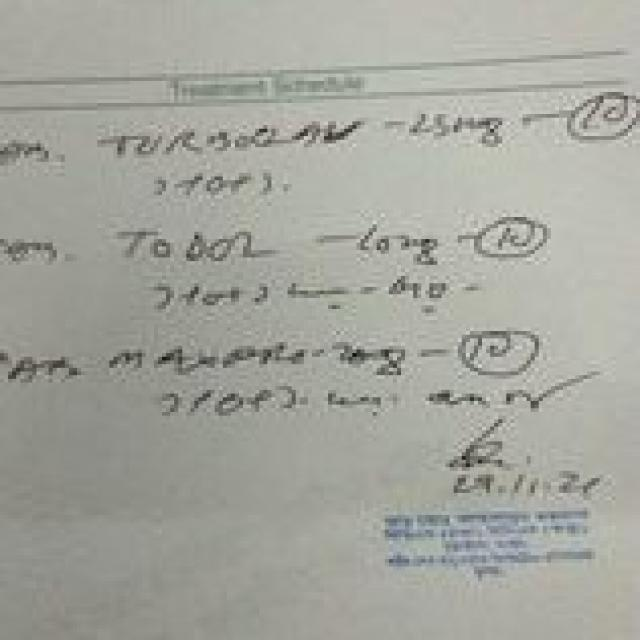Maxpro: (104, 338, 328, 388)
Todol: (112, 216, 299, 276)
Turboclav: (105, 116, 383, 171)
